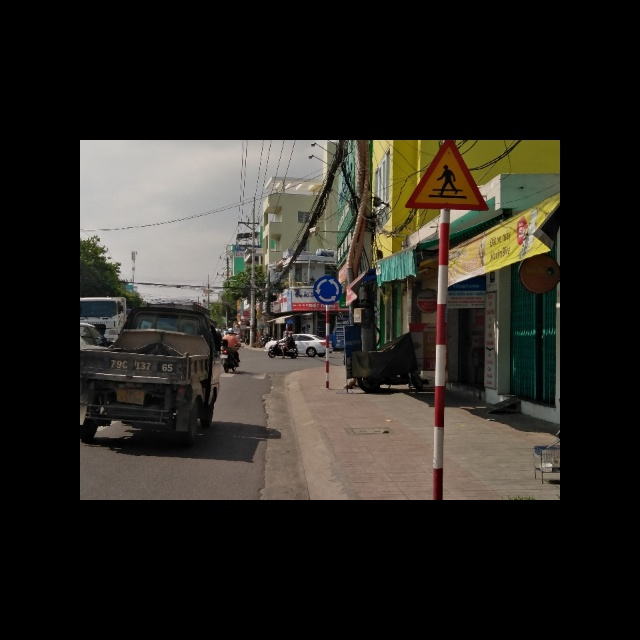Nơi giao nhau chạy theo vòng xuyến: (313, 276, 342, 304)
Đường người đi bộ sang đường: (405, 140, 494, 210)
